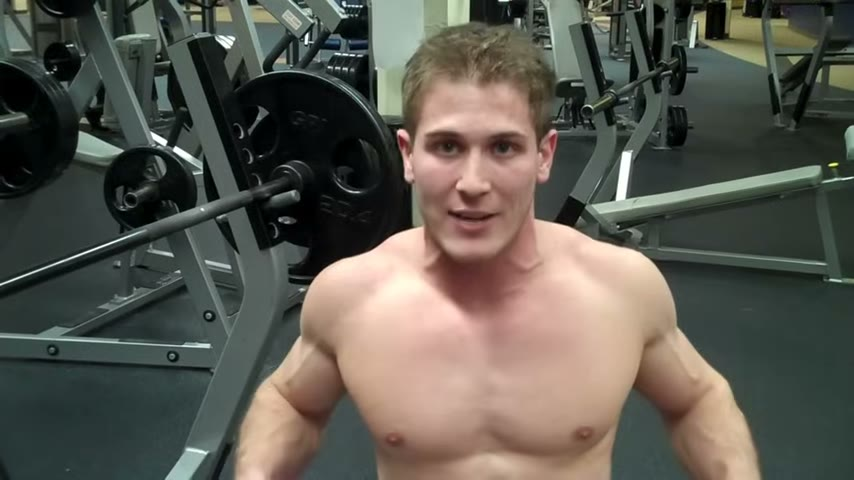barbell_plate_side: (265, 15, 424, 385), (1, 31, 102, 478)
